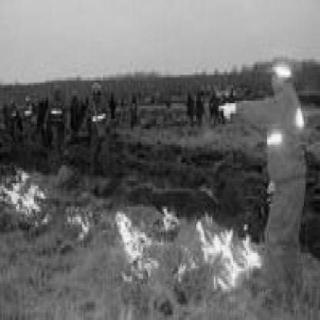Fire: (173, 203, 261, 285), (102, 199, 180, 281), (0, 165, 48, 223), (64, 200, 93, 244)
other: (81, 72, 113, 176), (44, 83, 66, 160)
